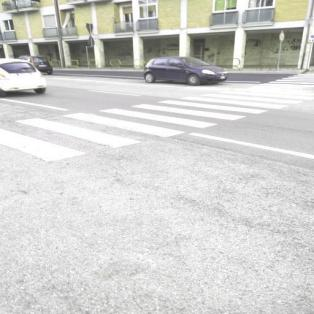Paso de Cebra: (11, 112, 188, 150), (173, 90, 314, 106)
